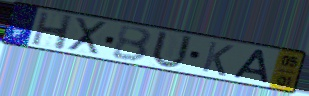A: (231, 48, 271, 85)
B: (110, 25, 154, 64)
H: (29, 10, 76, 52)
K: (199, 40, 236, 78)
U: (149, 29, 195, 70)
X: (66, 16, 108, 56)
